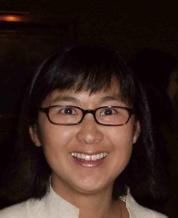face: (54, 96, 121, 170)
